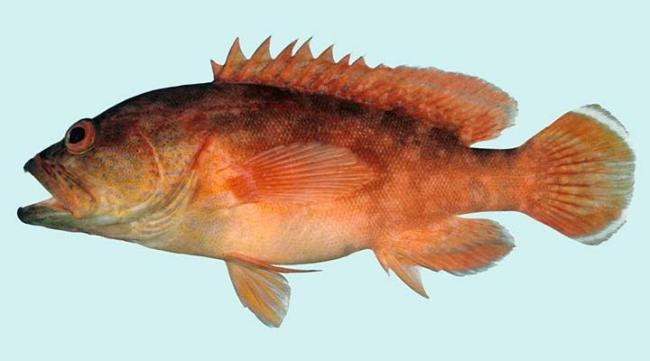fish: (19, 35, 637, 331)
